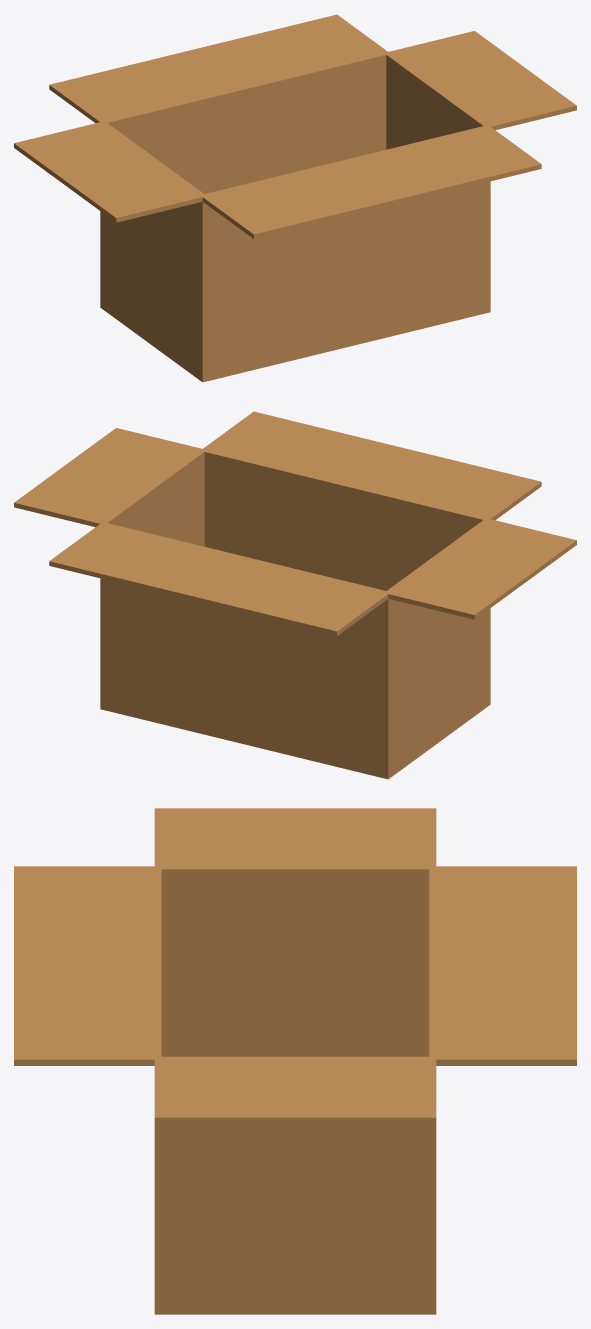
File: kardus_terbuka.glb
3 views of the same model, one above another, from view 1: azimuth 30°, elevation 25°; view 2: azimuth 150°, elevation 25°; view 3: azimuth 270°, elevation 25° (orthographic). The views are drawn at different scales.
Parts seen in each view (by area): view 1: Cube, Cube.001, Cube.007, Cube.006, Cube.003, Cube.009, Cube.008, Cube.002, Cube.004; view 2: Cube.001, Cube, Cube.006, Cube.007, Cube.003, Cube.009, Cube.008, Cube.002, Cube.004; view 3: Cube.002, Cube.003, Cube.006, Cube.007, Cube.008, Cube.009, Cube.001, Cube, Cube.004.
Boxes of the visible parts, x1,y1,x2,y2 form: Cube: (200, 126, 490, 381); Cube.001: (100, 52, 389, 306); Cube.007: (202, 127, 541, 238); Cube.006: (49, 14, 387, 123); Cube.003: (100, 121, 206, 382); Cube.009: (14, 122, 204, 222); Cube.008: (387, 31, 576, 130); Cube.002: (386, 52, 490, 313); Cube.004: (100, 303, 490, 381); Cube.001: (100, 523, 390, 779); Cube: (200, 449, 490, 706); Cube.006: (49, 524, 388, 635); Cube.007: (203, 411, 541, 520); Cube.003: (384, 518, 489, 778); Cube.009: (386, 519, 576, 619); Cube.008: (14, 428, 201, 527); Cube.002: (100, 449, 205, 710); Cube.004: (100, 702, 487, 778); Cube.002: (154, 1056, 436, 1314); Cube.003: (154, 866, 435, 1056); Cube.006: (436, 866, 576, 1065); Cube.007: (14, 866, 154, 1065); Cube.008: (154, 1058, 436, 1123); Cube.009: (154, 808, 436, 867); Cube.001: (429, 866, 436, 1314); Cube: (154, 866, 161, 1314); Cube.004: (154, 1308, 435, 1314).
Bounding box in the file's own units: 104 × 40 × 80.
